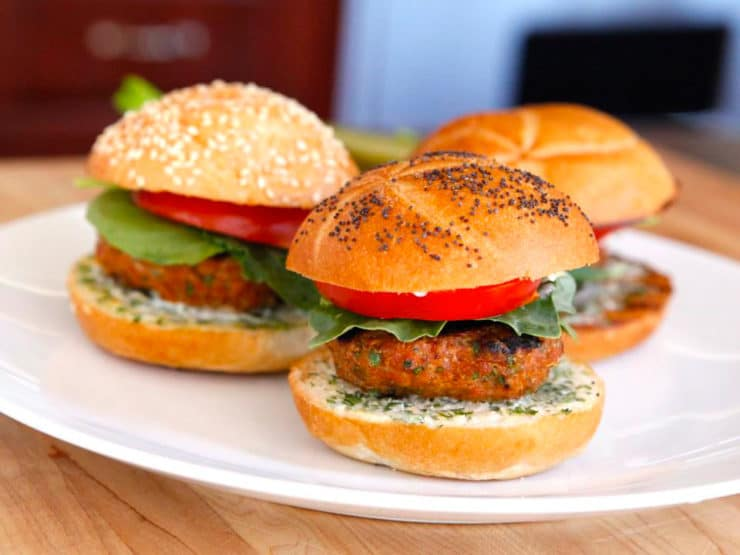hamburger_buns: (307, 140, 595, 465), (70, 83, 361, 400), (420, 87, 697, 394)
